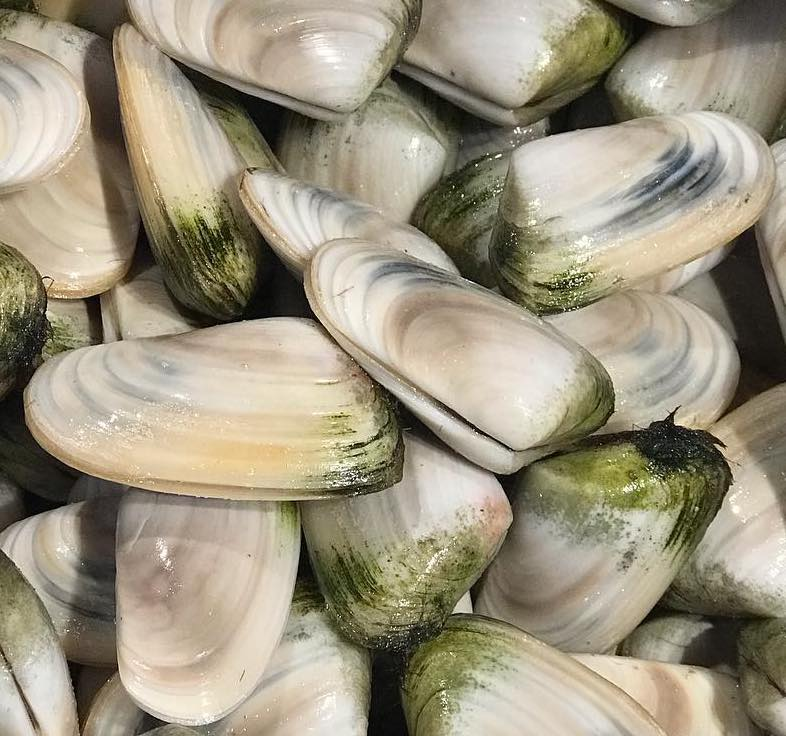tuatua: (299, 234, 625, 474), (19, 313, 410, 508), (483, 417, 734, 659), (485, 108, 774, 310), (297, 428, 518, 662), (106, 20, 260, 332), (108, 479, 299, 723), (120, 1, 435, 127), (388, 607, 668, 736), (396, 1, 627, 131), (568, 287, 749, 440), (239, 162, 462, 273)
